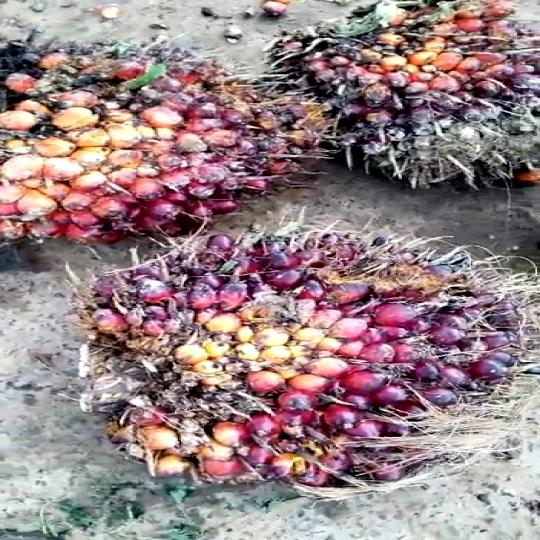masak: (47, 221, 540, 487), (0, 28, 360, 260)
